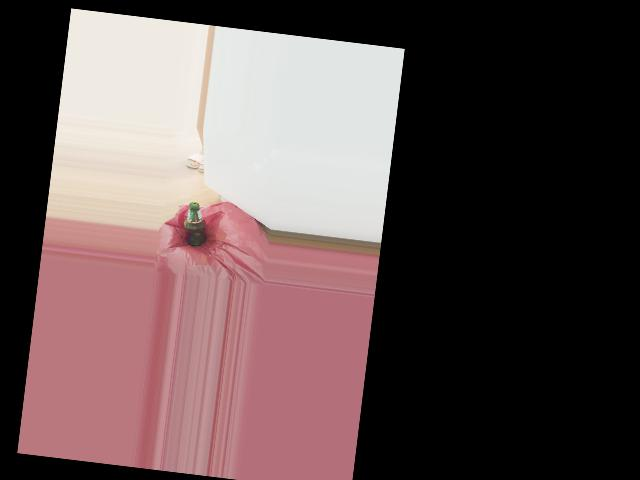beer: (181, 201, 210, 248)
